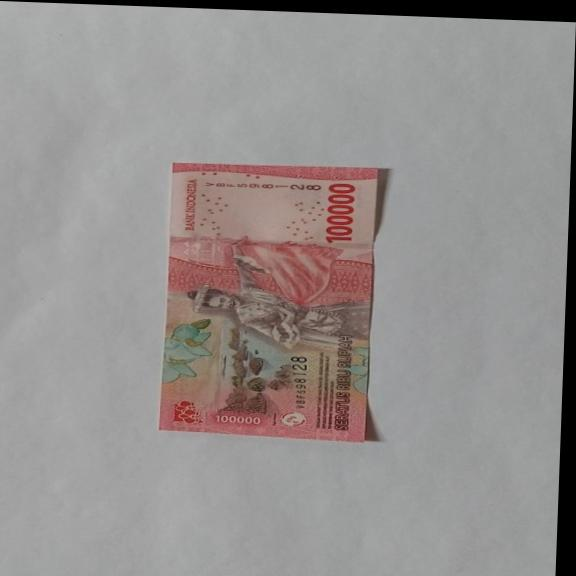Kertas: (157, 159, 383, 442), (322, 182, 357, 244)
